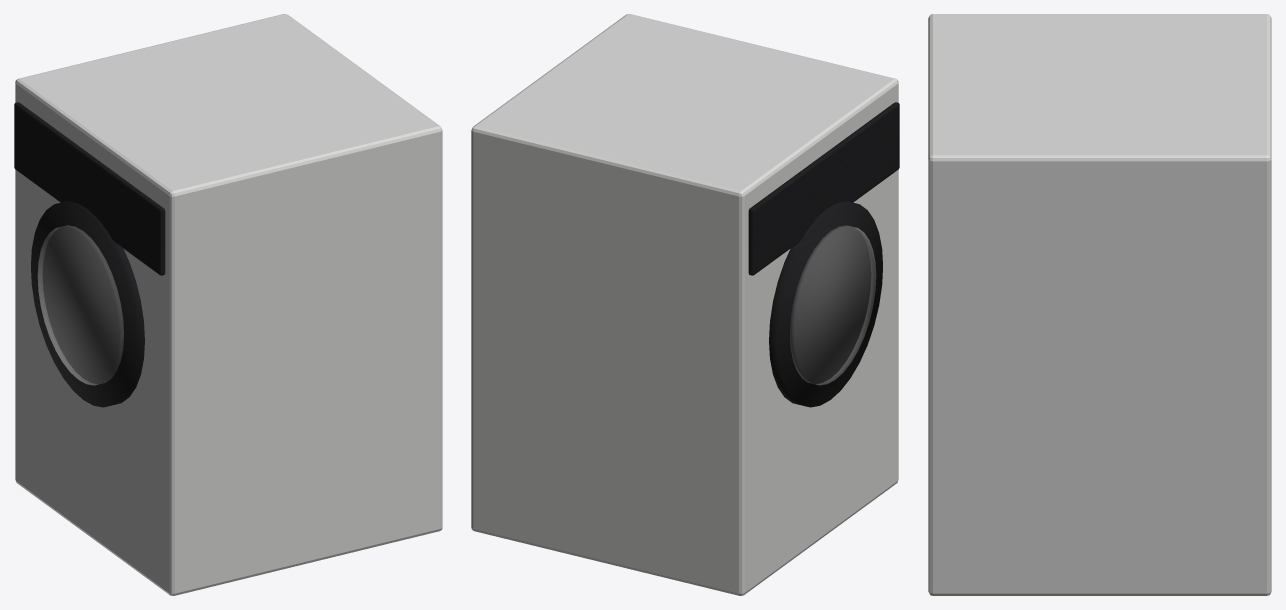
The model's file is laundry_washer.glb.
3 renders of one model, left to right at view 1: azimuth 30°, elevation 25°; view 2: azimuth 150°, elevation 25°; view 3: azimuth 270°, elevation 25°, orthographic. The views are drawn at different scales.
Visible parts, largest first — view 1: laundry_washer; view 2: laundry_washer; view 3: laundry_washer.
Part boxes in pixels (x1,y1,x2,y2): laundry_washer: (14,14,442,595); laundry_washer: (471,14,899,595); laundry_washer: (928,14,1271,595).
Size of the model in its own units: 0.631 by 0.85 by 0.6.
Materials: 3 (1 with a texture image).
